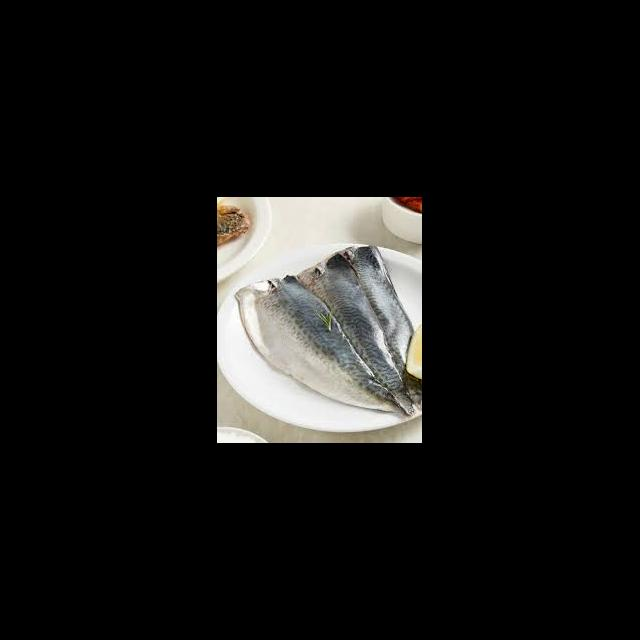fish: (236, 275, 410, 418)
